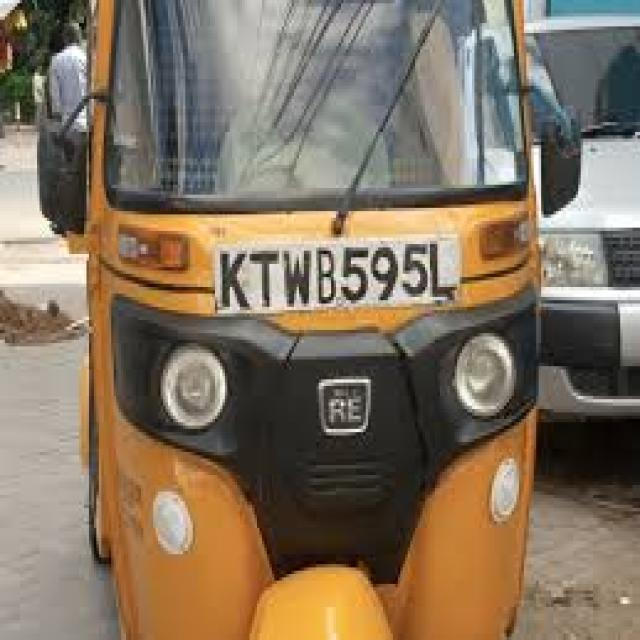tuktuk: (28, 0, 618, 640)
